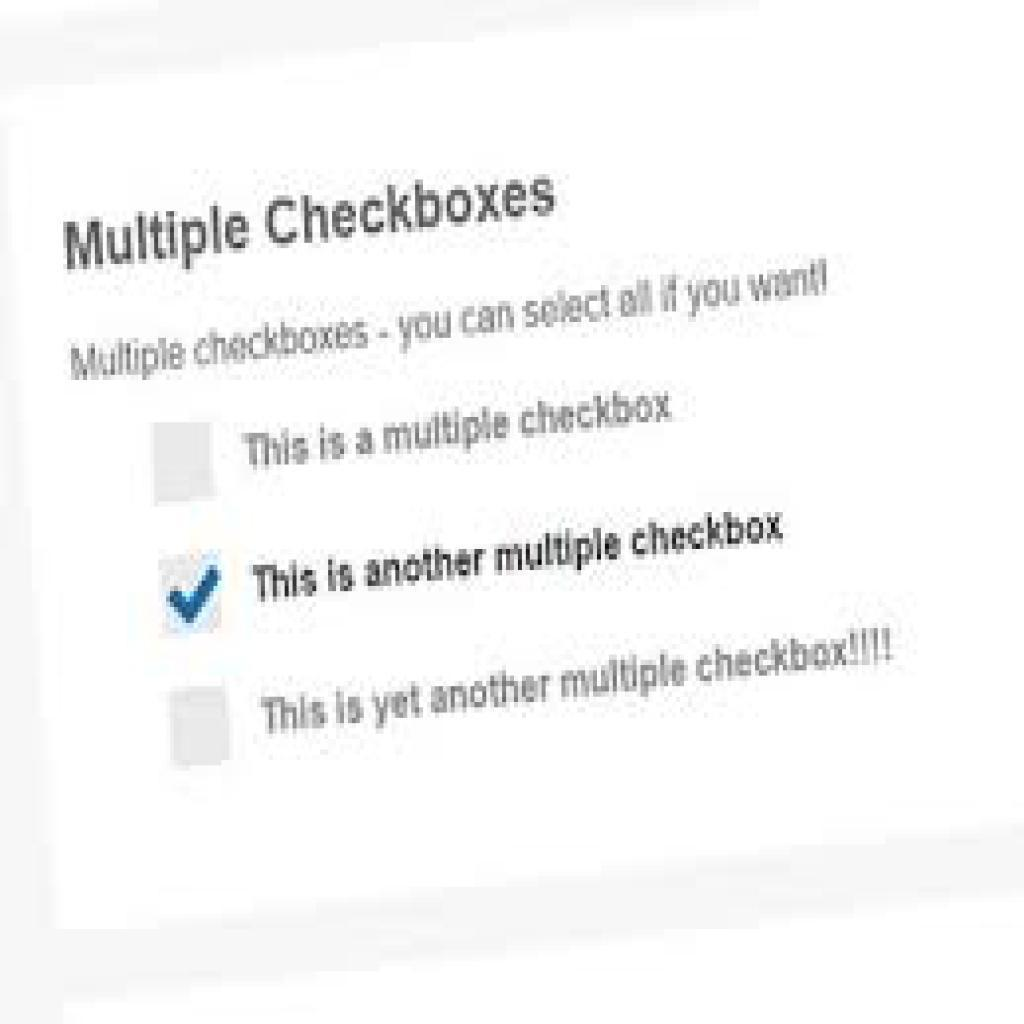checkbox: (156, 549, 226, 641), (150, 422, 219, 506), (170, 684, 234, 770)
